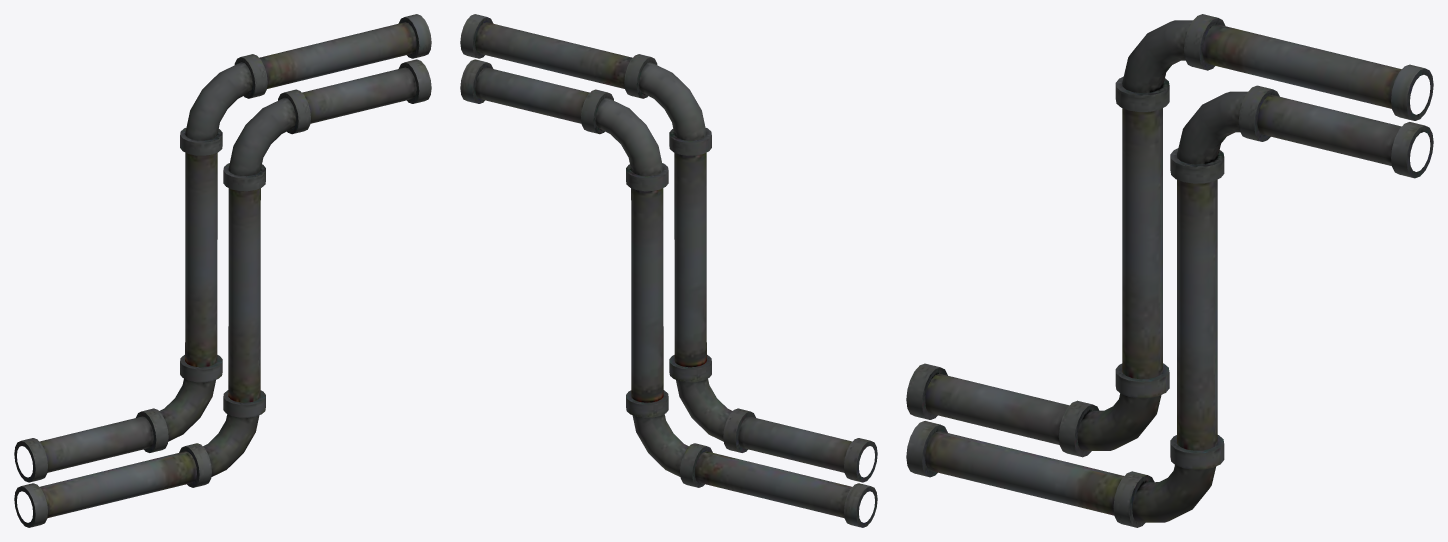
3 views of the same model, side by side, from view 1: azimuth 30°, elevation 25°; view 2: azimuth 150°, elevation 25°; view 3: azimuth 330°, elevation 25° (orthographic). The views are drawn at different scales.
Visible parts, largest first — view 1: body0_model0_lod0_mesh0; view 2: body0_model0_lod0_mesh0; view 3: body0_model0_lod0_mesh0.
Boxes of the visible parts, x1=… form: body0_model0_lod0_mesh0: x1=14, y1=14, x2=431, y2=527; body0_model0_lod0_mesh0: x1=460, y1=14, x2=877, y2=527; body0_model0_lod0_mesh0: x1=906, y1=14, x2=1433, y2=527.
Size of the model in its own units: 64 by 63.99 by 6.02.
1 material, 1 textured.
